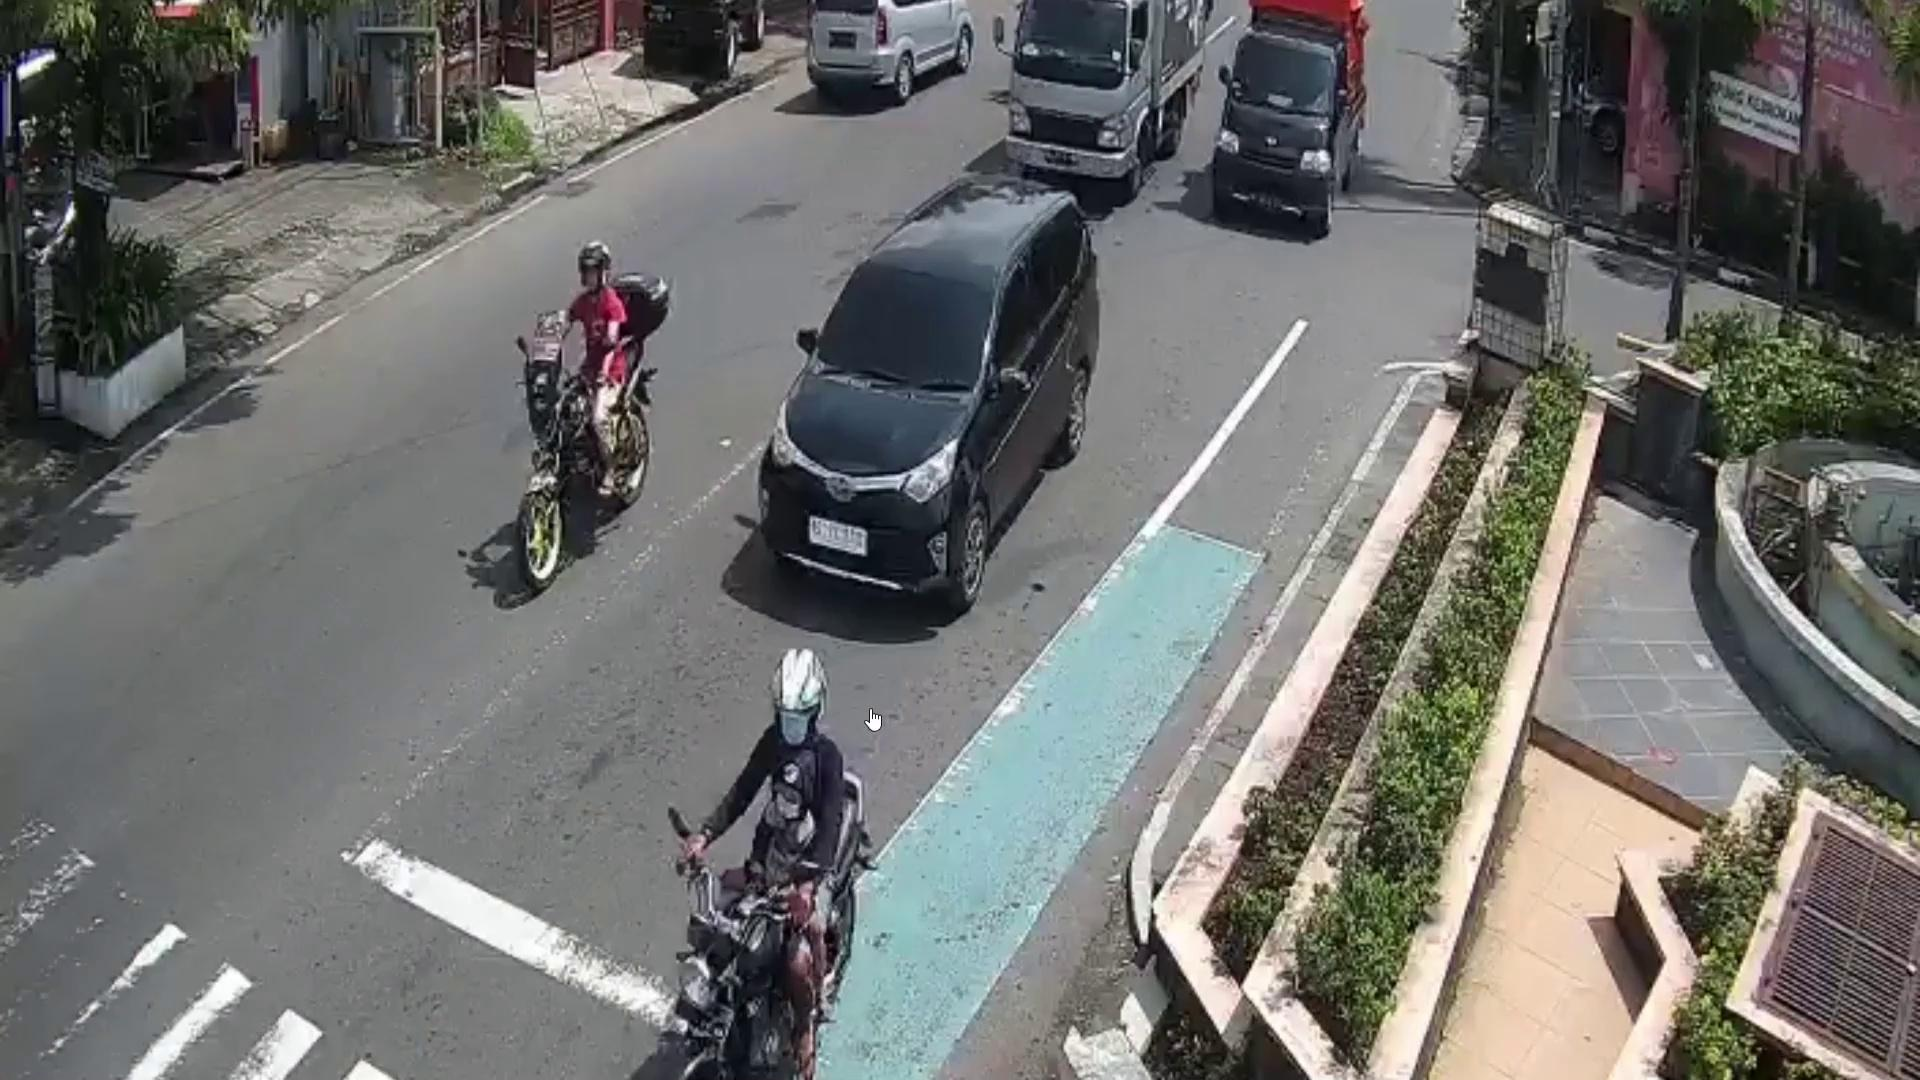car: (756, 175, 1102, 607), (1215, 26, 1364, 233), (804, 1, 976, 107)
motorbike: (649, 770, 857, 1080), (520, 343, 650, 595)
truck: (1004, 0, 1207, 191)
